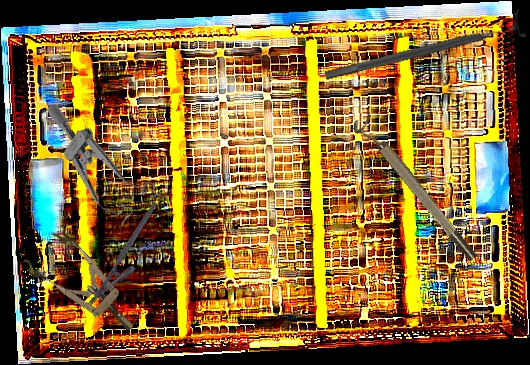Fixation Ring: (349, 110, 481, 269), (321, 7, 527, 91)
Needle Holder: (87, 201, 172, 315)
Speculum: (16, 100, 171, 235), (19, 225, 150, 349)
